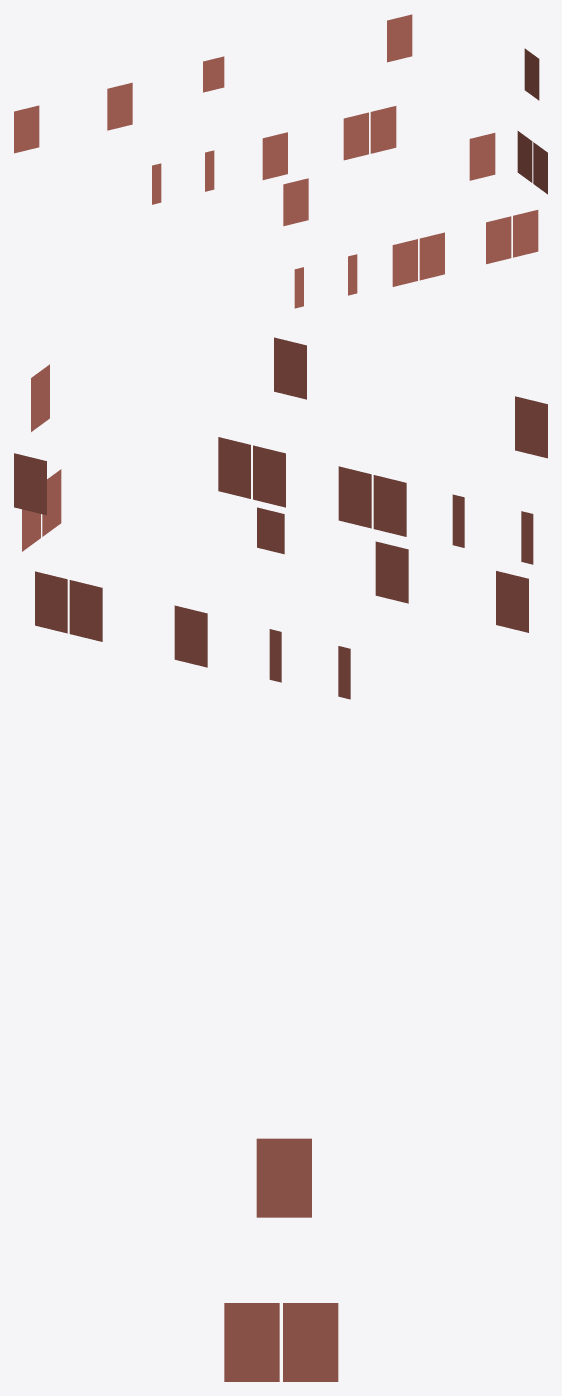
Rendered from HouseWindows.fbx.
The picture shows the model from 3 angles, top to bottom: view 1: azimuth 30°, elevation 25°; view 2: azimuth 150°, elevation 25°; view 3: azimuth 270°, elevation 25°; orthographic projection. The views are drawn at different scales.
Visible parts, largest first — view 1: HouseA_LOD0.001; view 2: HouseA_LOD0.001; view 3: HouseA_LOD0.001.
Boxes of the visible parts, x1,y1,x2,y2 form: HouseA_LOD0.001: [14, 14, 547, 308]; HouseA_LOD0.001: [14, 337, 547, 699]; HouseA_LOD0.001: [224, 1138, 338, 1381].
Size of the model in its own units: 1442 by 410 by 792.
